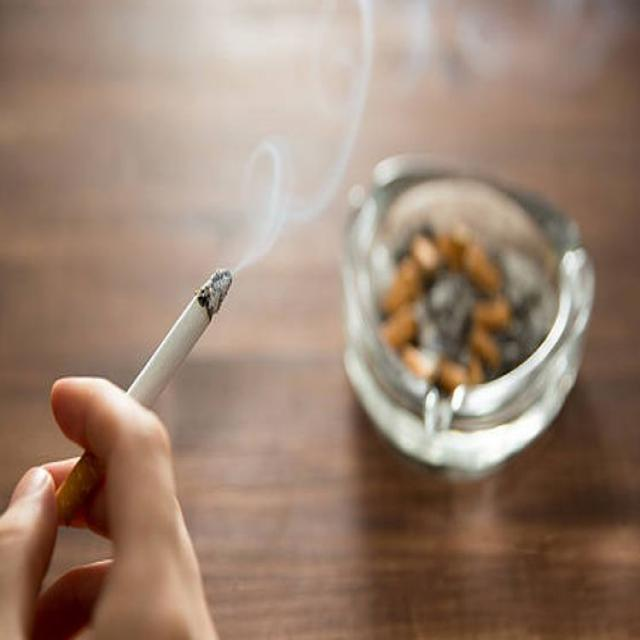rokok: (45, 263, 252, 525)
